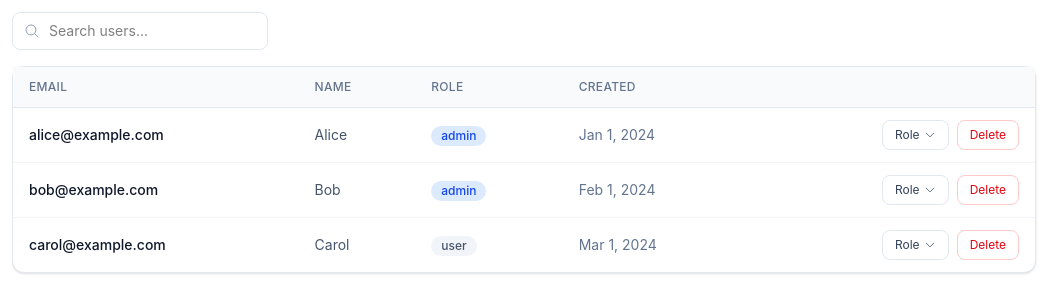
Test: UsersView › deletes user from list after confirmation
This screenshot has width=1053, height=291.
Step 1. Click the button "Delete" in the row of "alice@example.com" → click(988, 135), box top-left (957, 120), bottom-right (1019, 150)
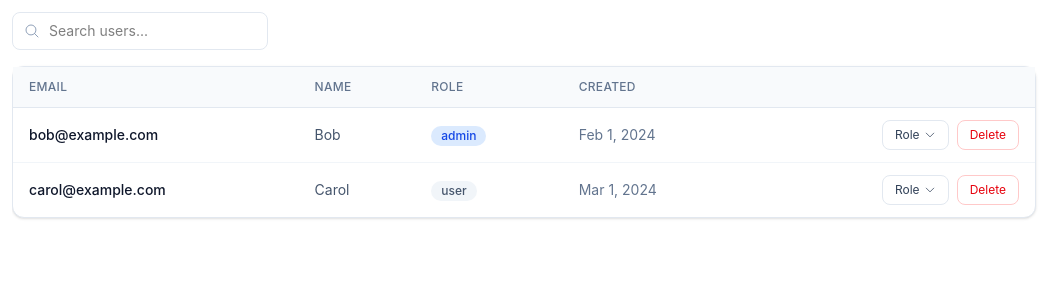
Expected: the text "bob@example.com" is shown, top-left (13, 108), bottom-right (298, 162)
Expected: the text "alice@example.com" is gone
